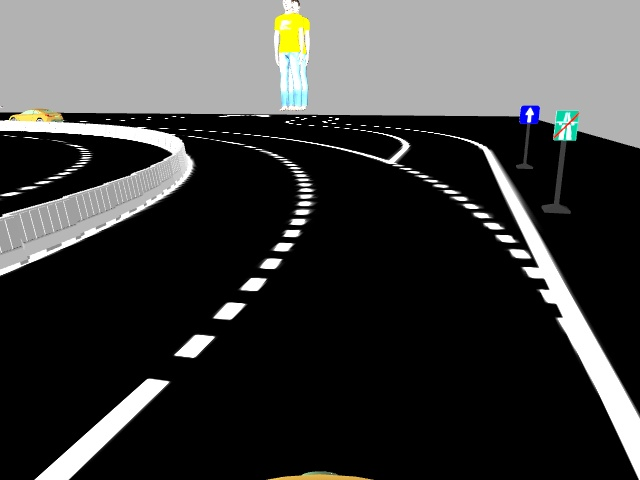HighwayExit: (553, 107, 576, 140)
OneWay: (519, 103, 541, 123)
